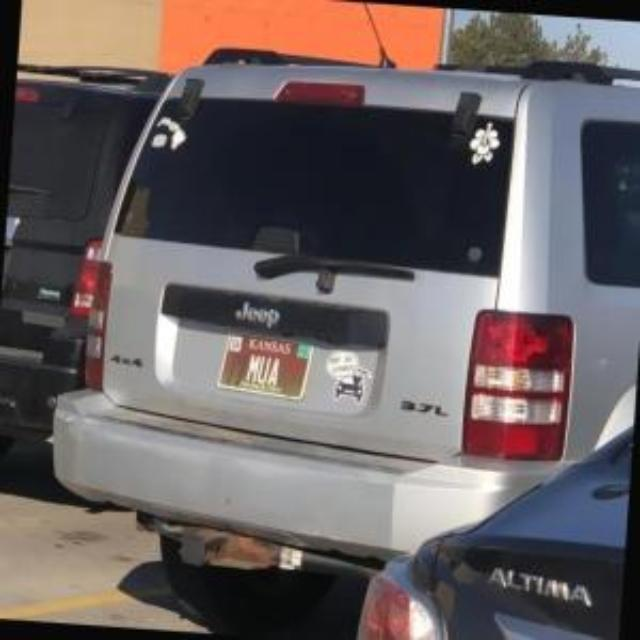License Plate: (215, 330, 315, 401)
